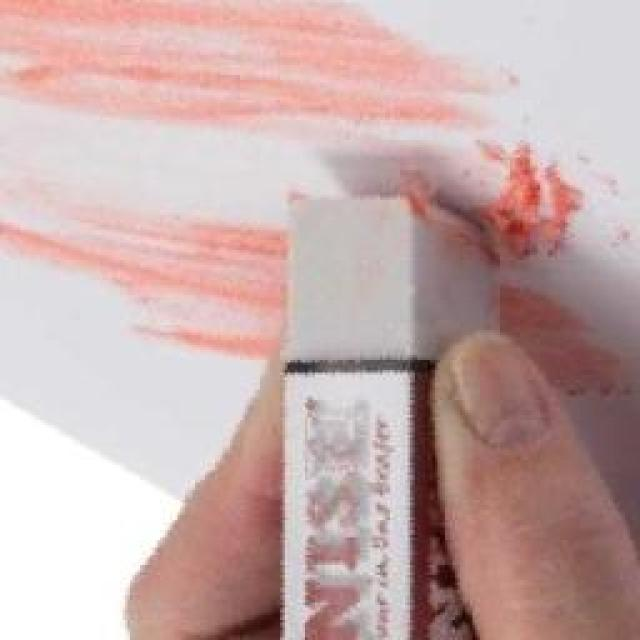Silgi: (282, 192, 500, 640)
